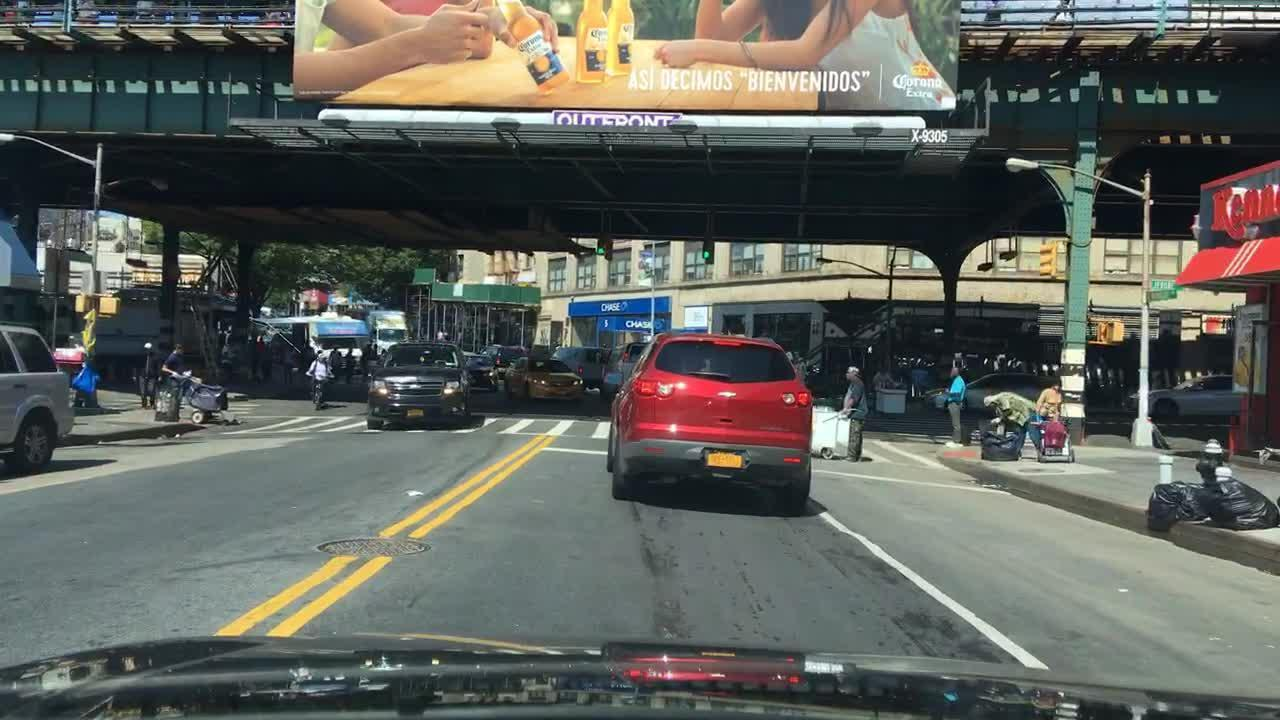chevrolet: (716, 384, 740, 401)
